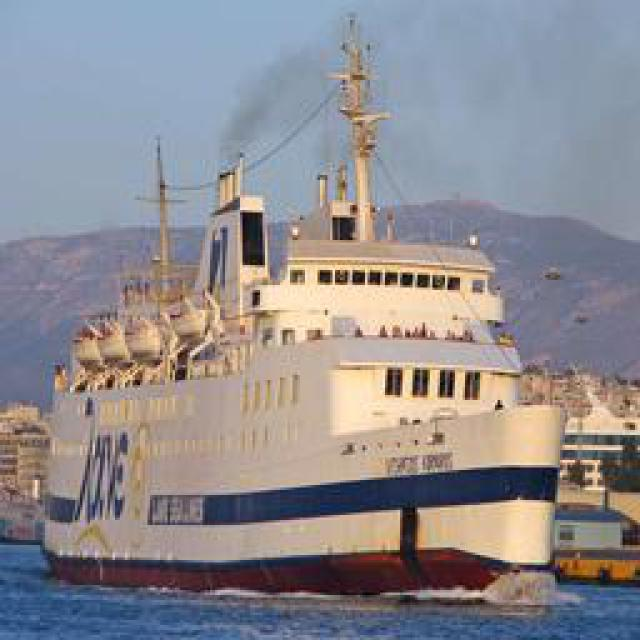Ship: (26, 67, 559, 590)
